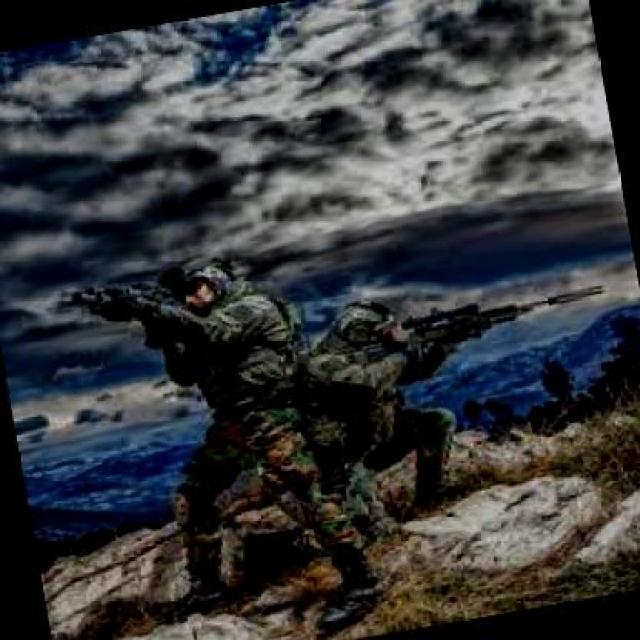MIL_Pax: (111, 238, 363, 616), (301, 283, 473, 517)
